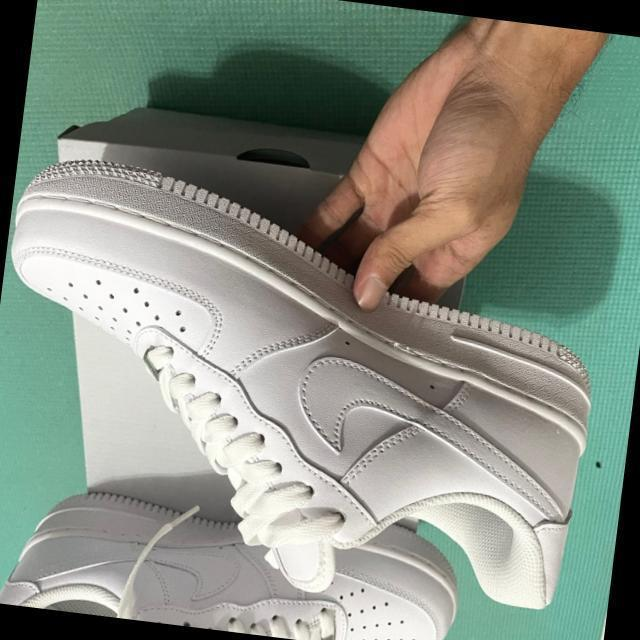nike original air force: (0, 150, 640, 629), (0, 476, 468, 640)
